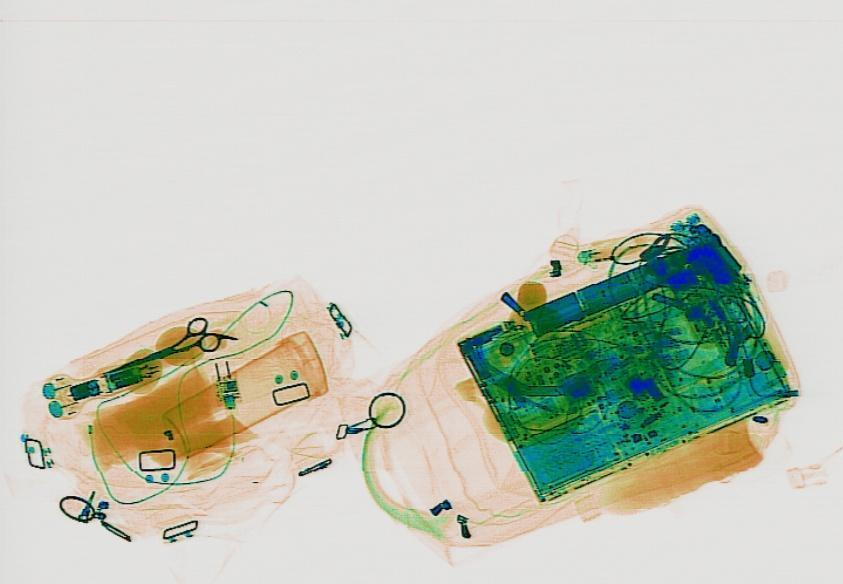Scissors: (87, 312, 233, 389)
